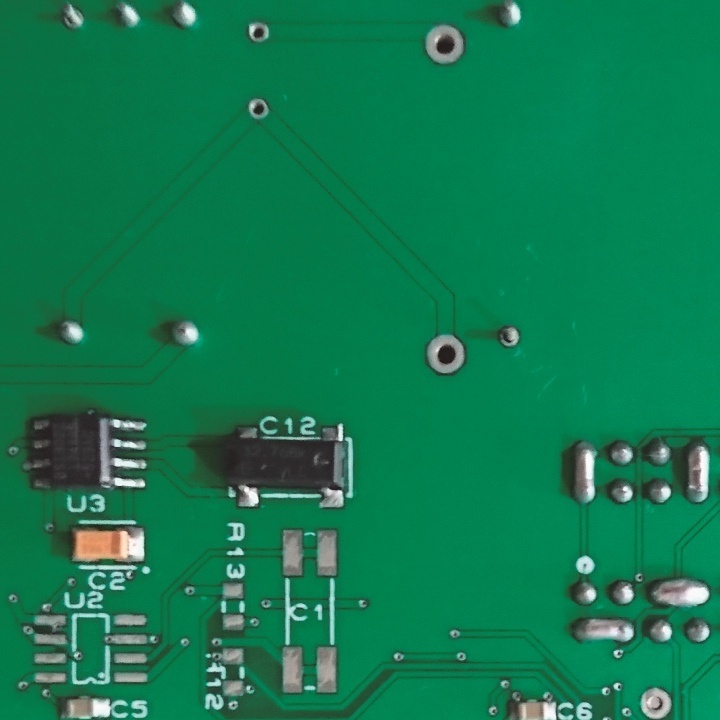F: (421, 331, 468, 376), (421, 23, 467, 67), (636, 683, 676, 720), (496, 321, 522, 354), (60, 2, 86, 33), (246, 20, 272, 46), (246, 98, 271, 123)
P: (646, 574, 717, 612), (681, 436, 716, 508), (565, 612, 639, 646), (568, 434, 599, 507)
